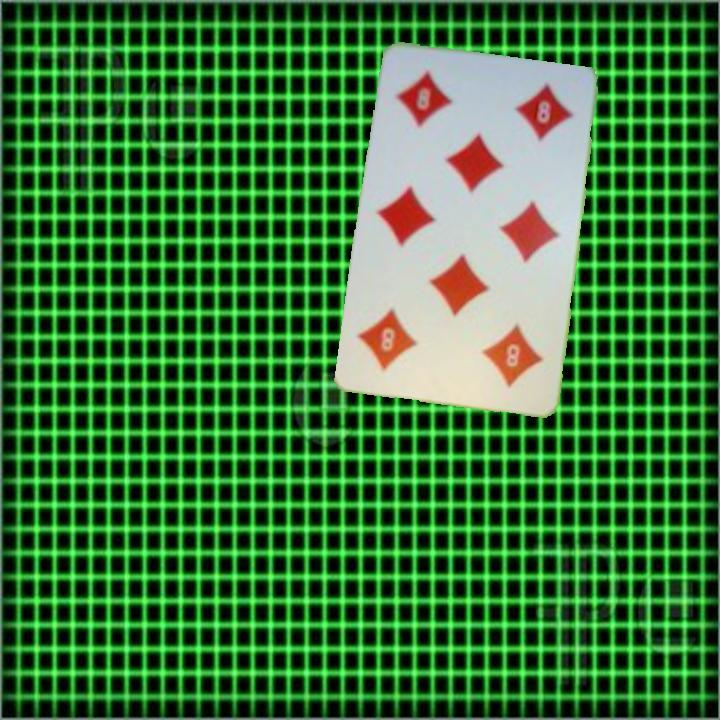d_8.png: (444, 303, 553, 401), (382, 57, 491, 154)
